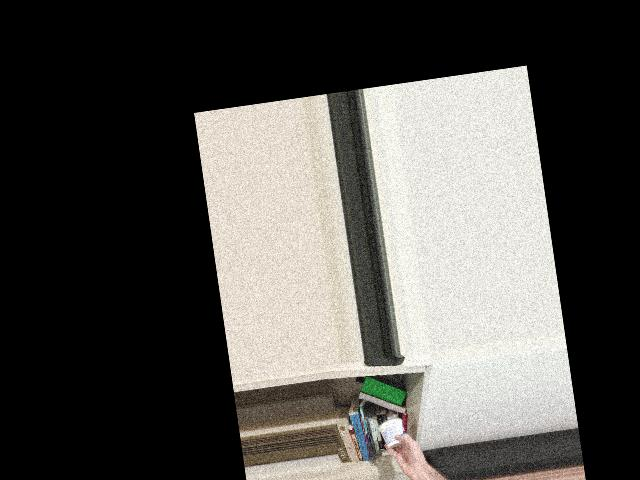cotage: (376, 415, 411, 456)
